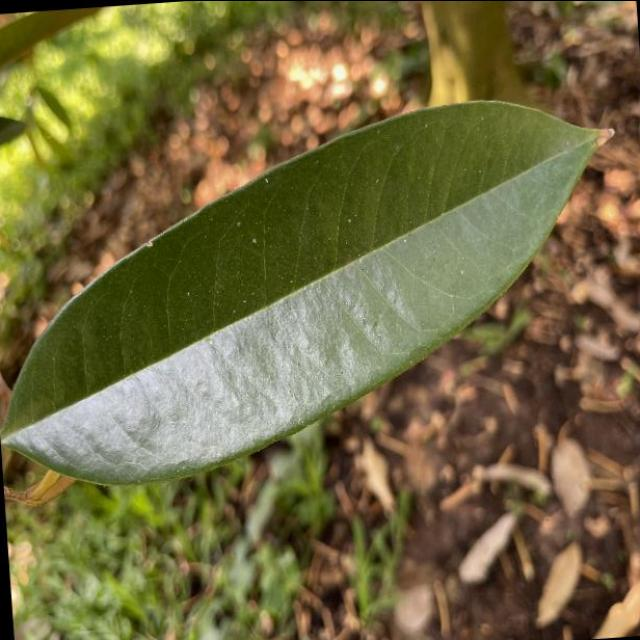No Disease: (0, 84, 640, 502)
